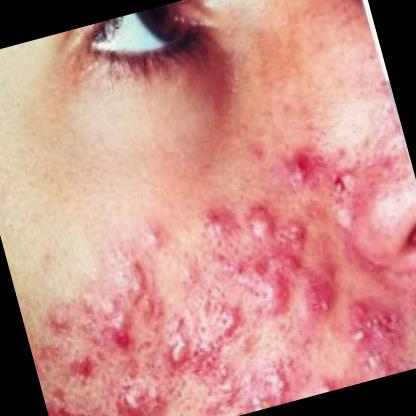Acne: (146, 301, 203, 376), (109, 256, 156, 314), (97, 298, 136, 347), (242, 199, 282, 242), (342, 314, 378, 353)
